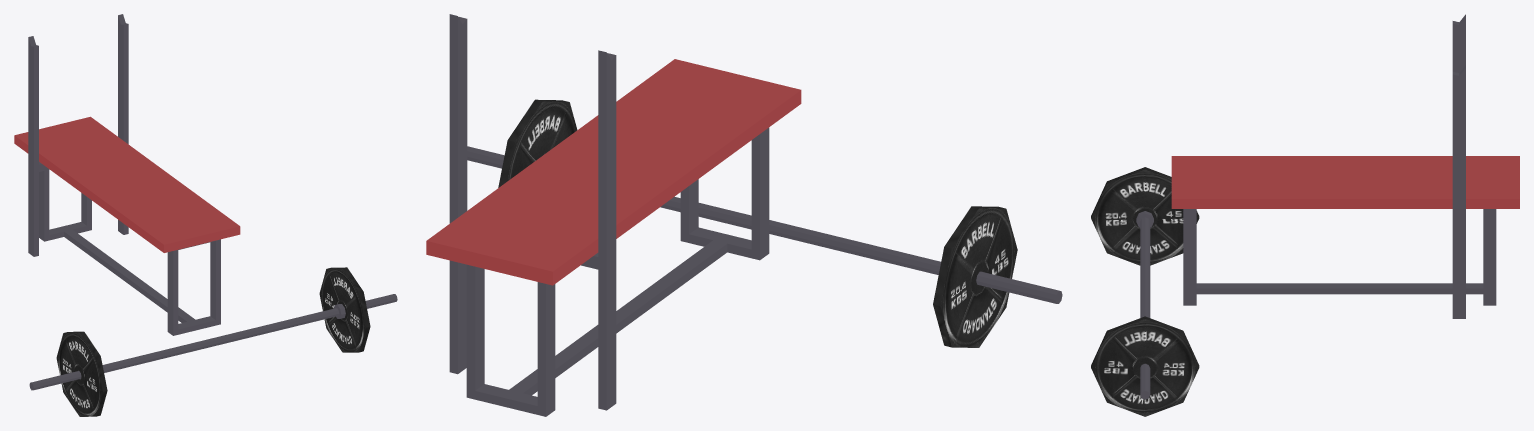
The model's file is CENARIO - academia.glb.
3 renders of one model, left to right at view 1: azimuth 30°, elevation 25°; view 2: azimuth 150°, elevation 25°; view 3: azimuth 270°, elevation 25°, orthographic. The views are drawn at different scales.
Parts seen in each view (by area): view 1: bench, barbell; view 2: bench, barbell; view 3: bench, barbell.
Boxes of the visible parts, <box> form: bench: <box>14,14,240,335</box>; barbell: <box>29,267,397,416</box>; bench: <box>426,14,801,416</box>; barbell: <box>467,99,1062,347</box>; bench: <box>1171,14,1519,318</box>; barbell: <box>1091,167,1199,416</box>.
Size of what is drawn, in the model's own units: 180 by 122 by 158.
Materials: 3 (1 with a texture image).
